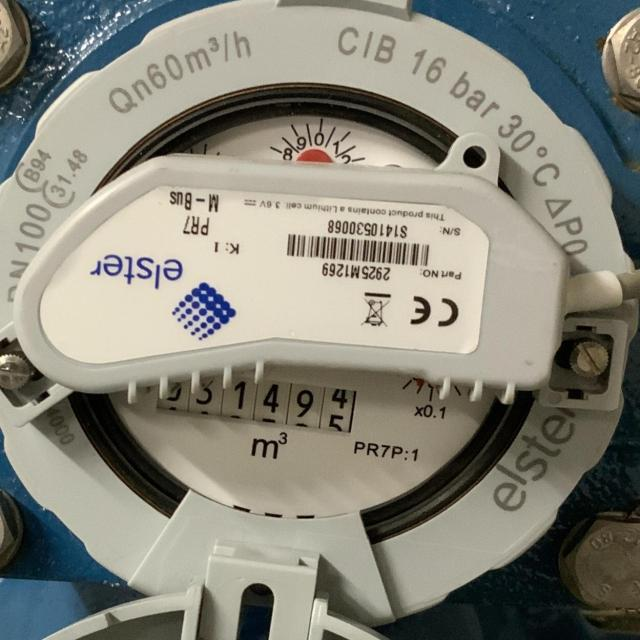gaz_meter: (0, 0, 627, 610)
indication: (151, 362, 360, 436)
